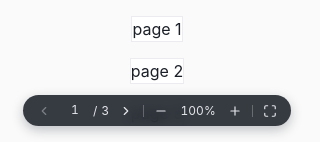
Scenario: DocxViewer › 범위 밖 페이지를 입력하면 현재 페이지로 복원한다
This screenshot has width=320, height=160.
Replace the text in the field with test id "docx-page-input" with "99" at (75, 110), box [61,102,89,119]
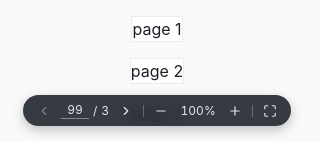
Press Enter
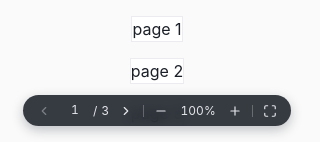
Expected: the field with test id "docx-page-input" holds "1", [61,102,89,119]
